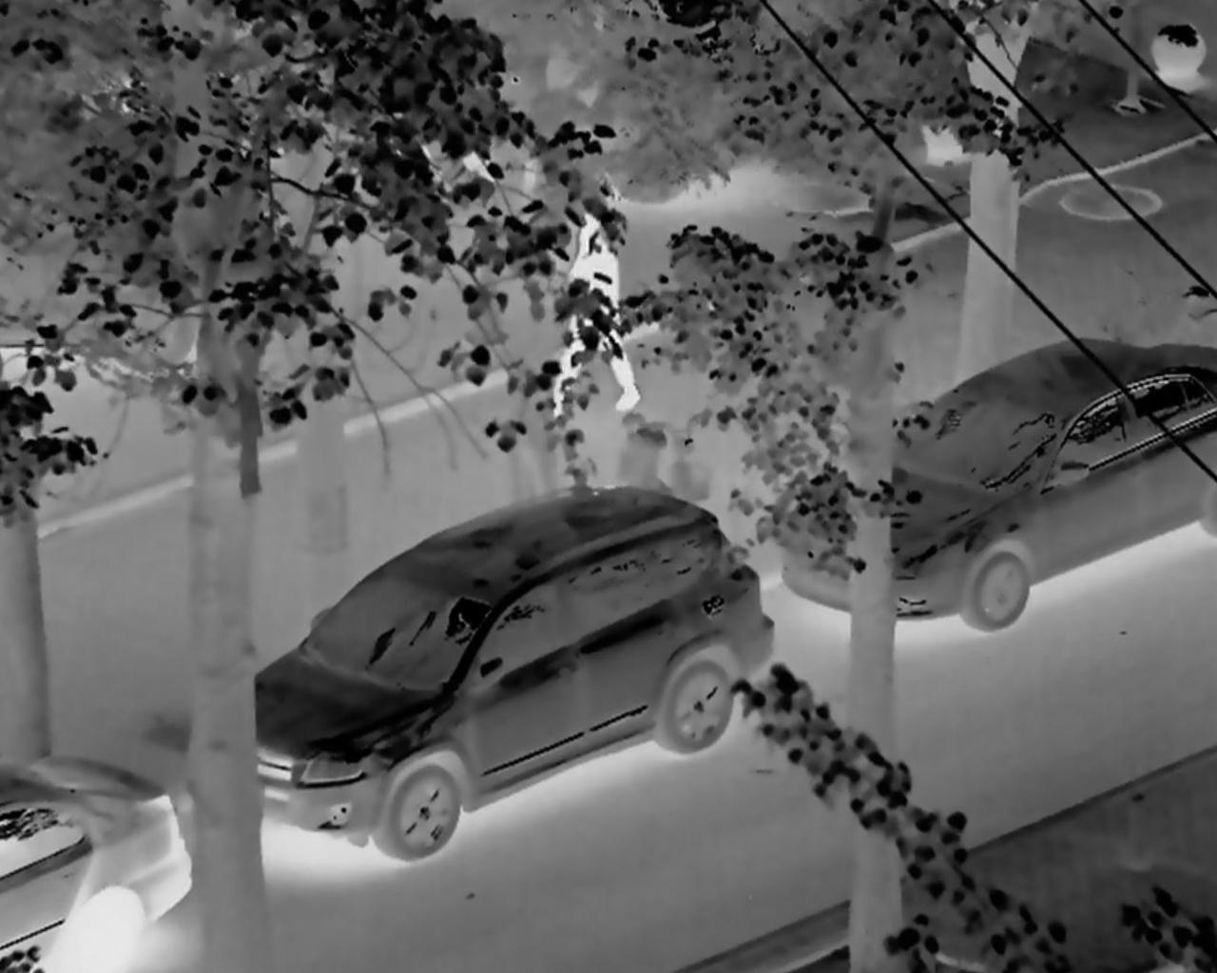person: (531, 151, 645, 438)
